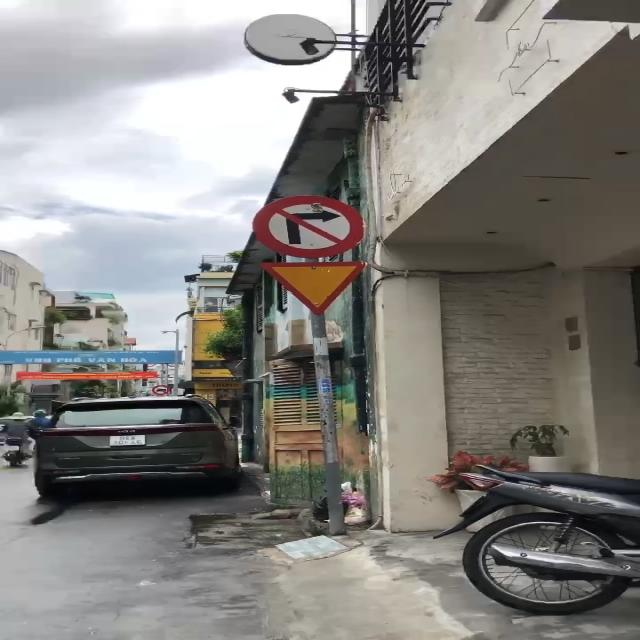Bien bao cam re phai: (250, 191, 370, 262)
Bien bao giao nhau voi duong uu tien: (252, 257, 378, 318)
